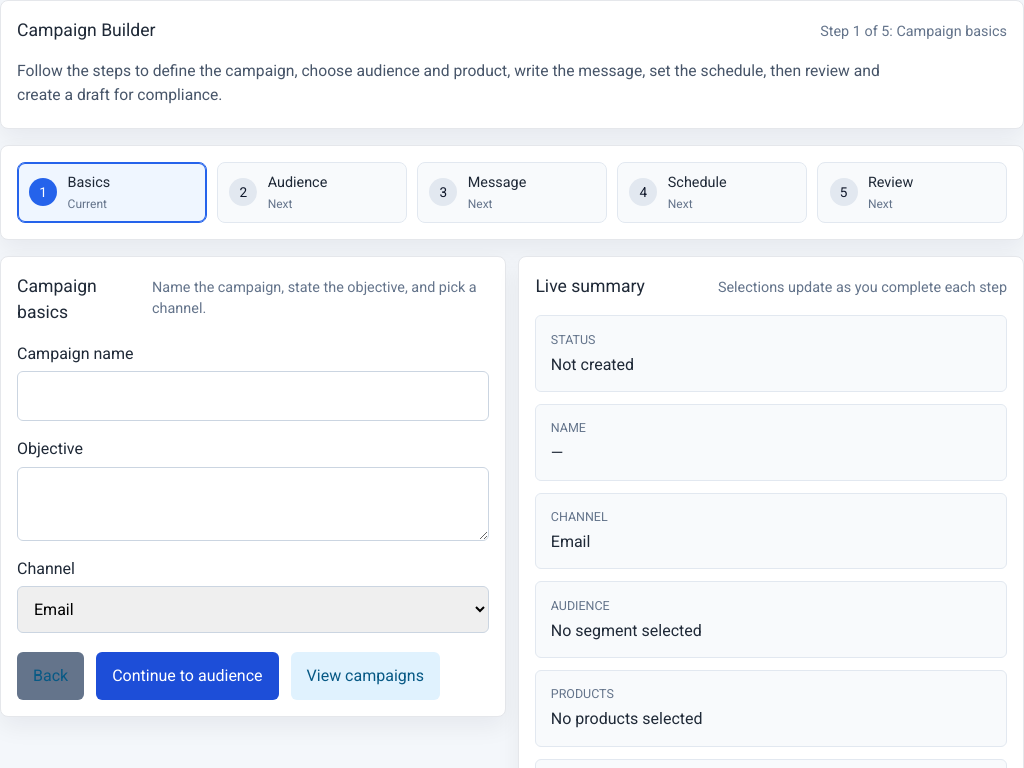
Test: CampaignBuilderPage (item 592) › blocks create draft from review until segment, product, message, and schedule are complete
This screenshot has width=1024, height=768.
Type "Life renewal outreach" into the field labelled "Campaign name". click: (253, 396)
box: left=17, top=371, right=489, bottom=421
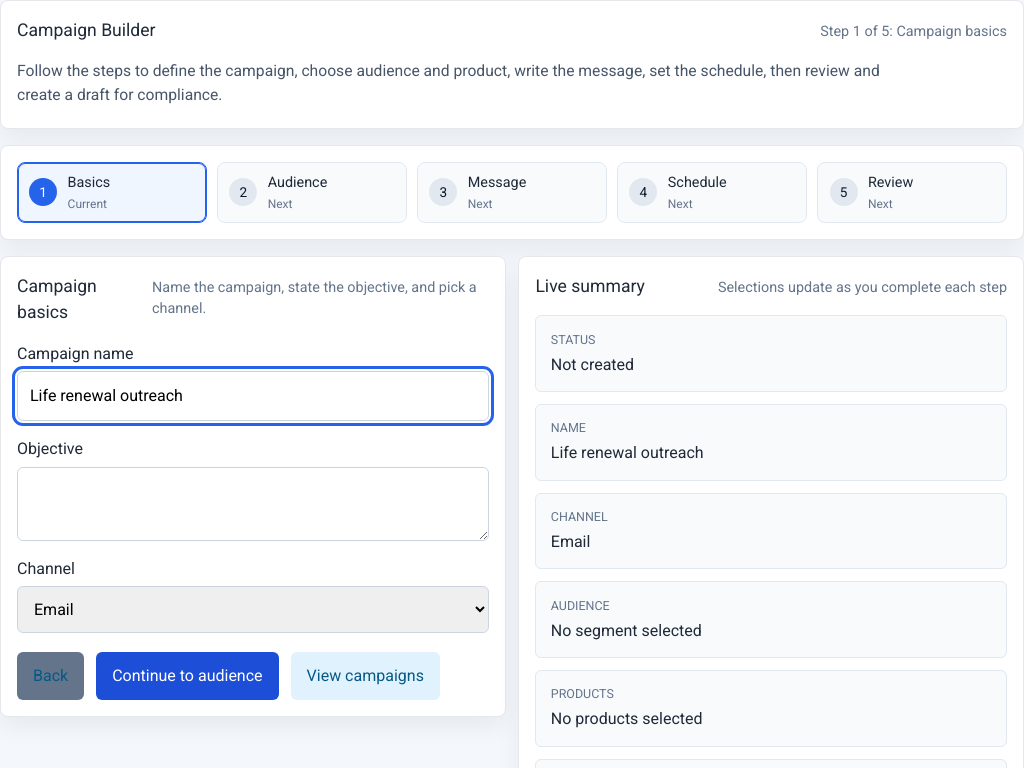
Type "Promote renewals" into the text box named "Campaign objective". click: (253, 504)
box: left=17, top=467, right=489, bottom=541
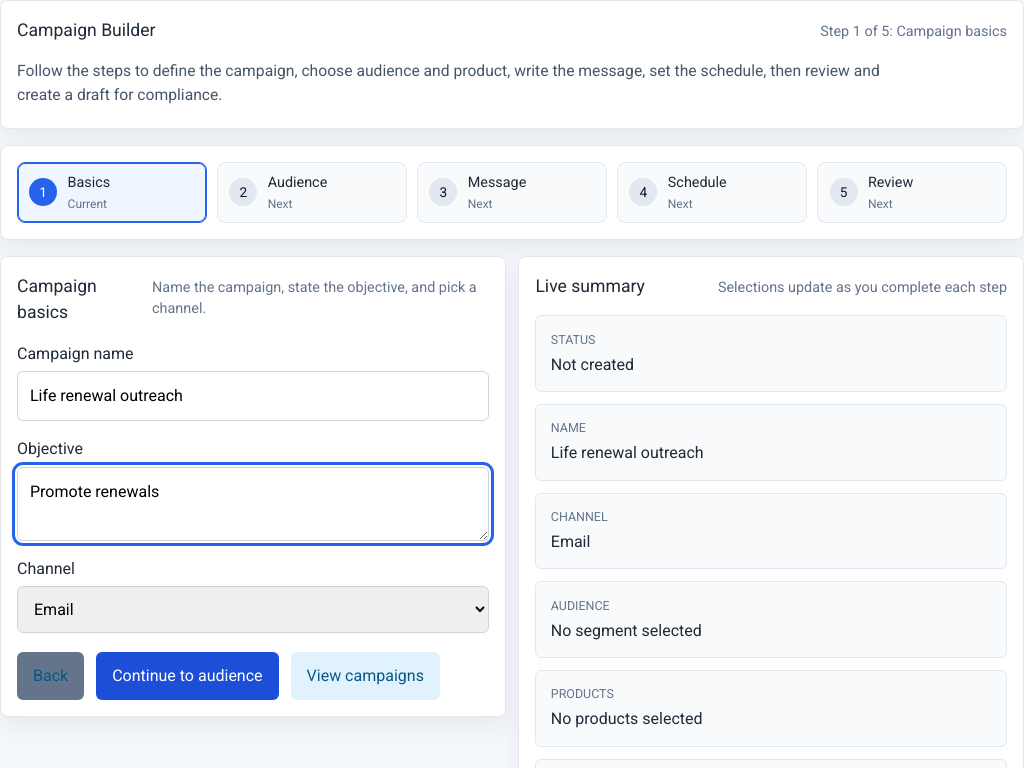
Click the button "Continue to audience". click: (187, 676)
box: left=96, top=652, right=279, bottom=700
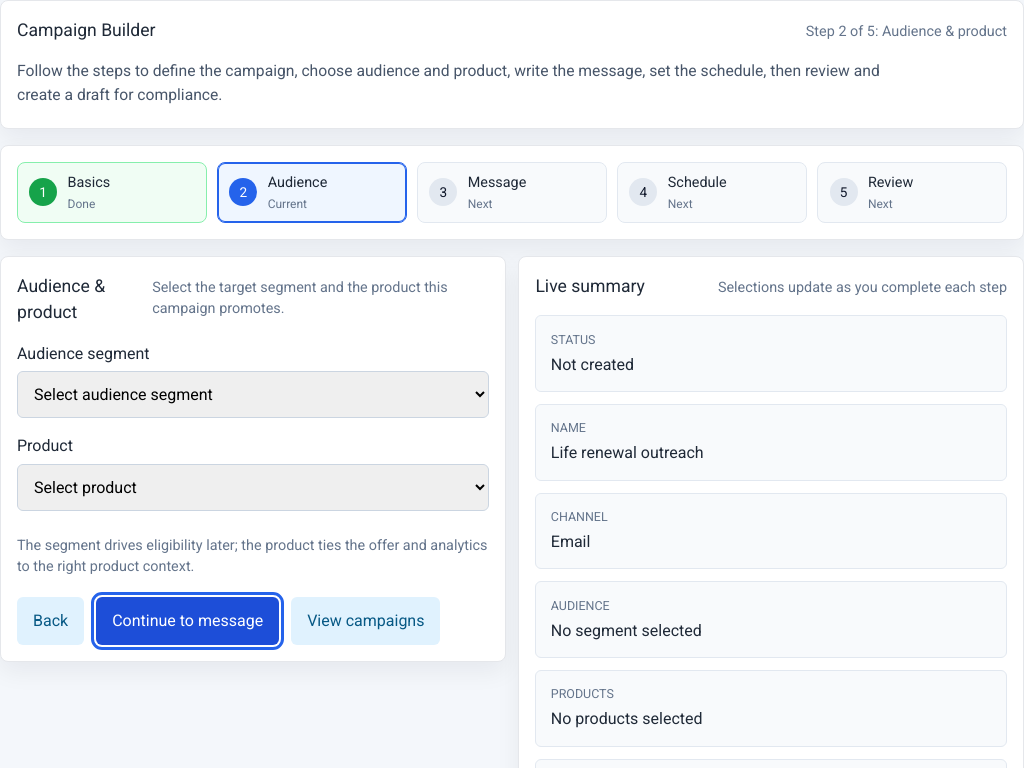
Expected: the dropdown named "Campaign audience segment" is shown, left=17, top=371, right=489, bottom=418
Click the button "5 Review Next". click: (912, 192)
box: left=817, top=162, right=1007, bottom=223
(page scrolled)
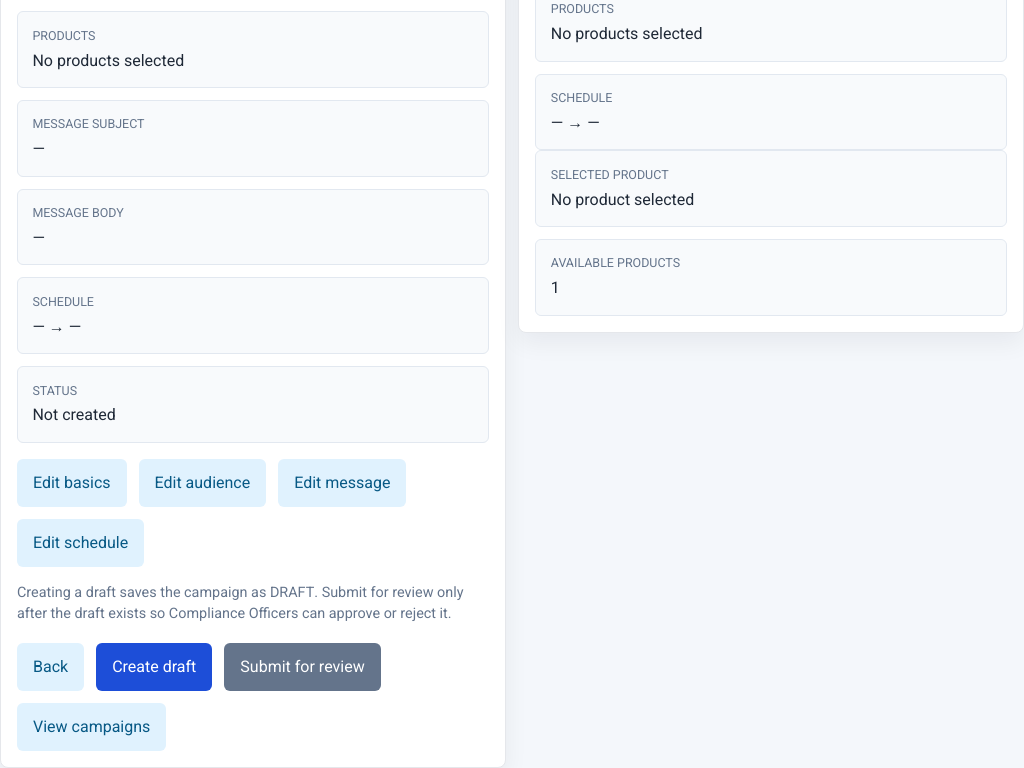
Click the button "Create draft". click: (154, 667)
box: left=96, top=643, right=212, bottom=691
(page scrolled)
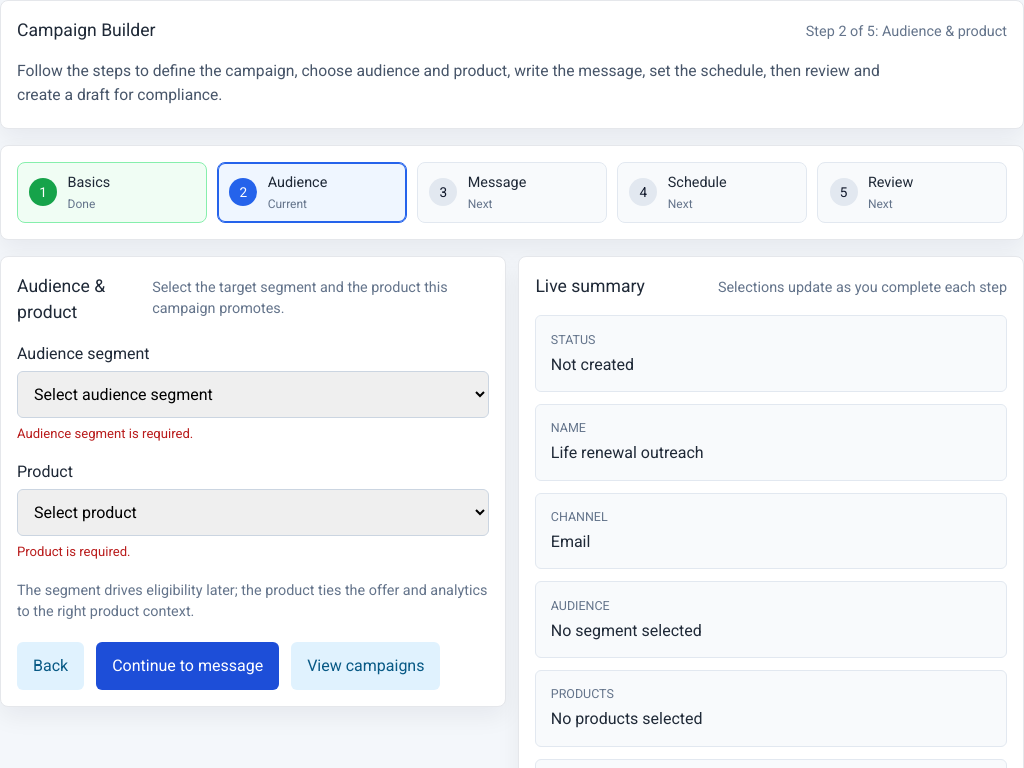
Expected: the dropdown named "Campaign audience segment" is shown, left=17, top=371, right=489, bottom=418
Expected: the text "Audience segment is required." is shown, left=17, top=426, right=193, bottom=441
Expected: the text "Product is required." is shown, left=17, top=544, right=131, bottom=559
